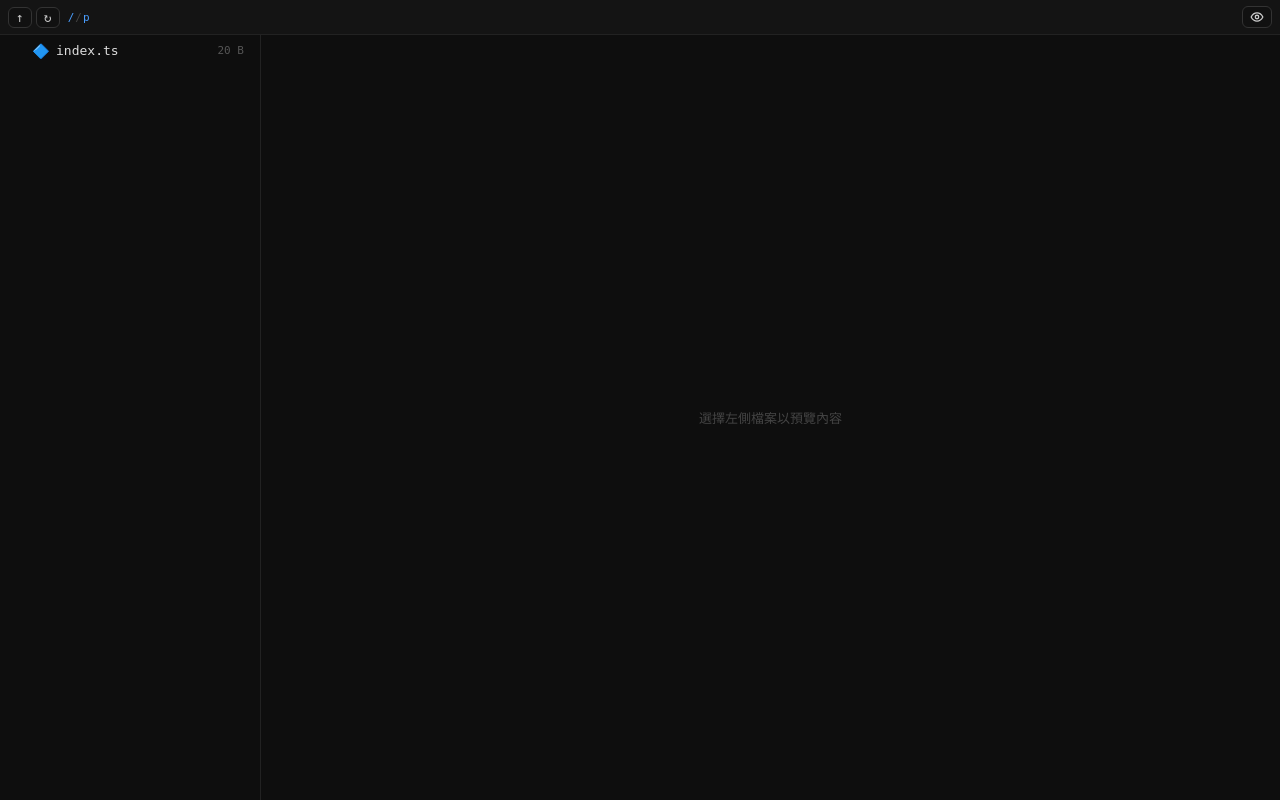
FileExplorer — file selection › clicking a file loads its content in the viewer
Click the text "index.ts" at (87, 50), box [56,43,119,58]
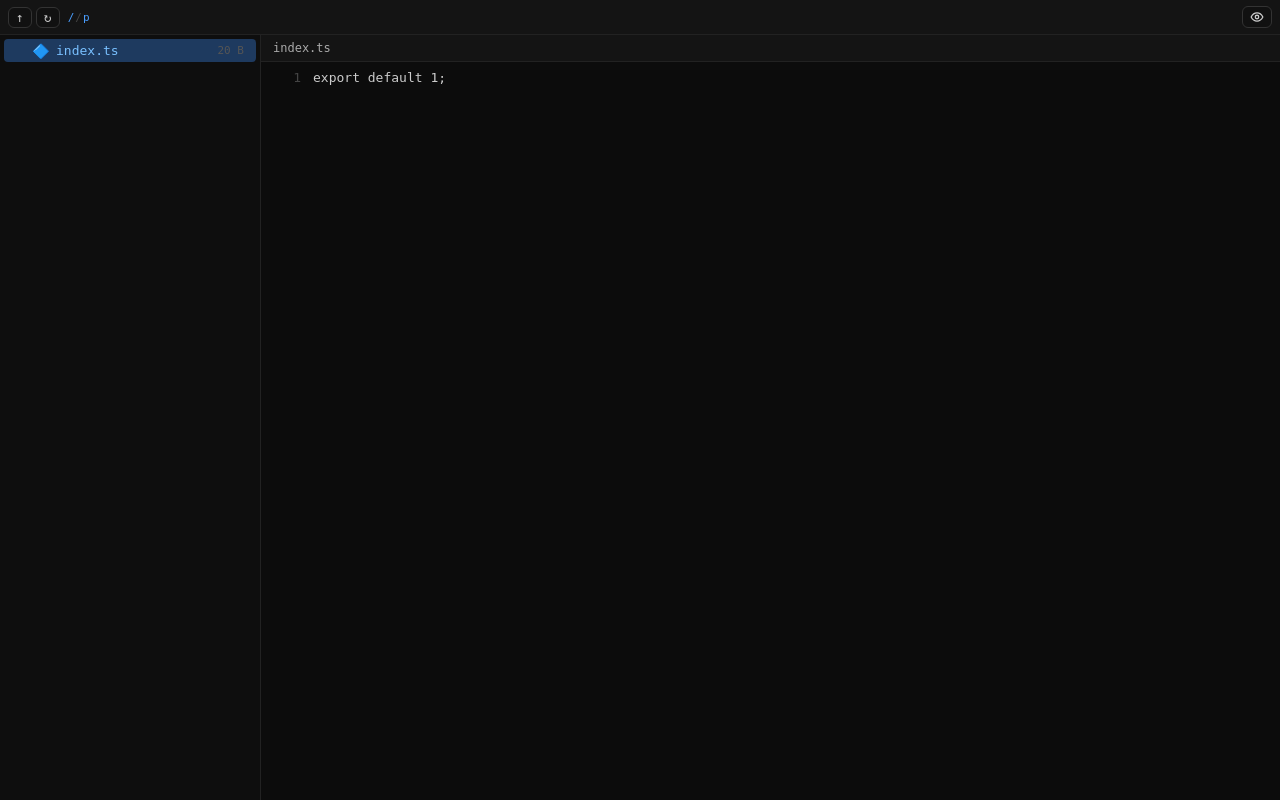
Expected: the text "export default 1;" is shown, [313,70,446,85]
